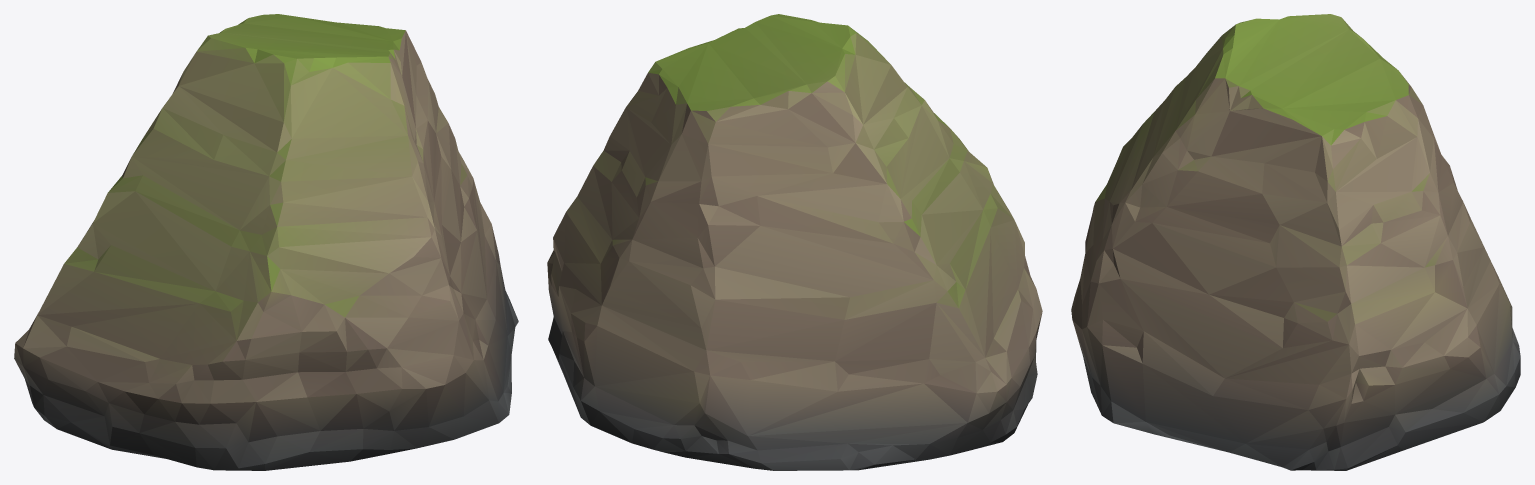
File: Rock_A.glb
3 views of the same model, side by side, from view 1: azimuth 30°, elevation 25°; view 2: azimuth 150°, elevation 25°; view 3: azimuth 270°, elevation 25° (orthographic). The views are drawn at different scales.
Visible parts, largest first — view 1: Rock_A; view 2: Rock_A; view 3: Rock_A.
Part boxes in pixels (box(x1,y1,x2,y2)): Rock_A: box(14, 14, 518, 470); Rock_A: box(547, 14, 1042, 470); Rock_A: box(1071, 14, 1520, 470).
Bounding box in the file's own units: 1.82 × 1.27 × 1.57.
